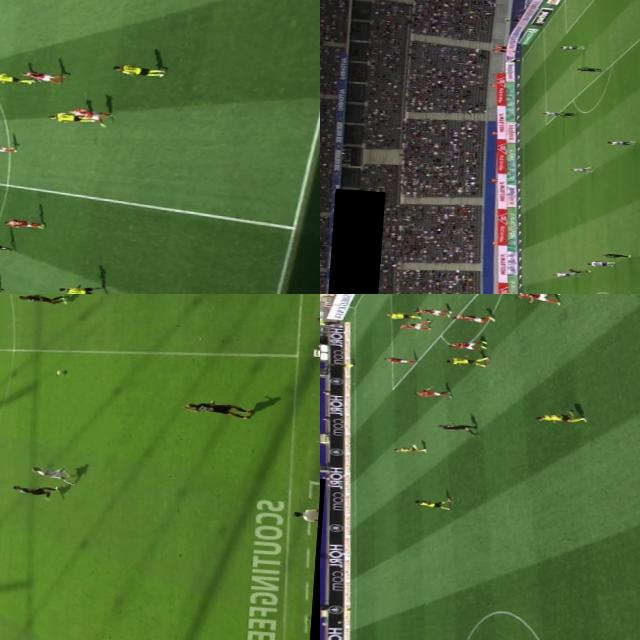ball: (43, 367, 69, 377), (415, 316, 421, 320)
player: (183, 396, 250, 419), (533, 406, 588, 426), (28, 466, 74, 484), (70, 106, 110, 126), (107, 64, 164, 78), (6, 484, 59, 498), (15, 294, 70, 307), (442, 354, 488, 369), (45, 112, 98, 125), (20, 70, 63, 85), (411, 385, 452, 400), (410, 494, 451, 509), (448, 312, 496, 324), (4, 219, 45, 233), (445, 338, 486, 352), (56, 285, 113, 294), (512, 294, 562, 304), (391, 442, 428, 454), (396, 319, 432, 331), (0, 74, 33, 87), (414, 308, 449, 318), (384, 311, 418, 321), (598, 250, 630, 260), (576, 65, 606, 75), (604, 137, 634, 147), (382, 356, 418, 364), (0, 142, 18, 157), (565, 165, 595, 174), (555, 44, 585, 52), (584, 260, 614, 268), (562, 265, 588, 274), (540, 109, 564, 117), (553, 110, 575, 118), (551, 272, 577, 278)
